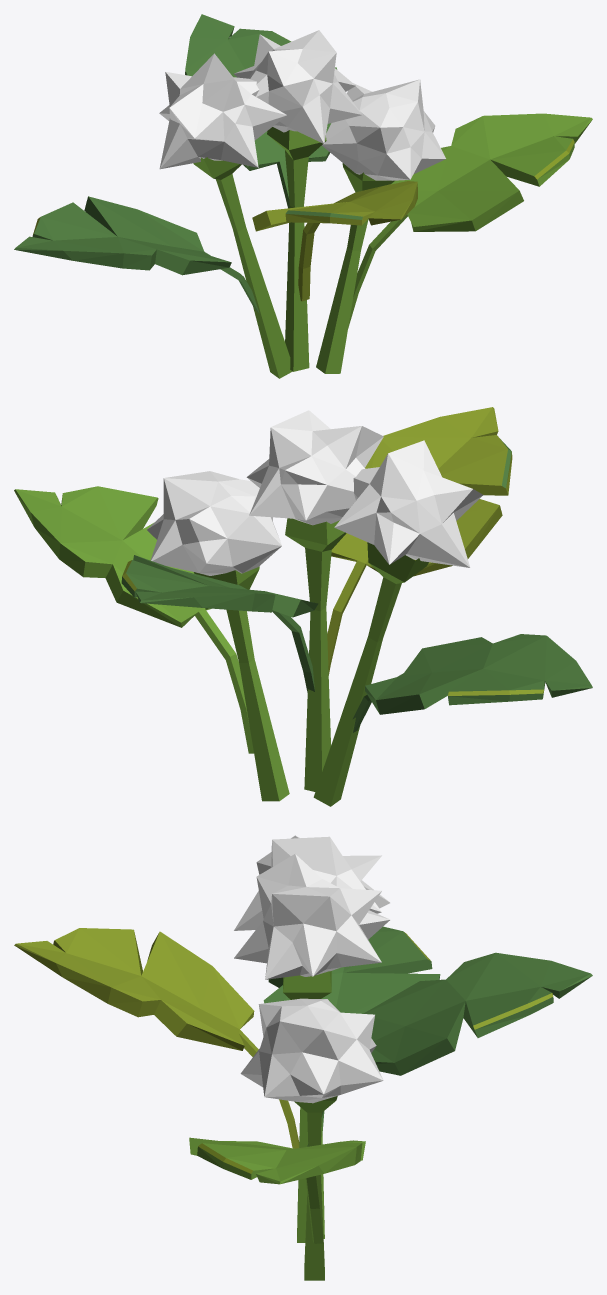
File: EA_M_Env_Flower_01b_PRE.glb
3 renders of one model, top to bottom at view 1: azimuth 30°, elevation 25°; view 2: azimuth 150°, elevation 25°; view 3: azimuth 270°, elevation 25°, orthographic. The views are drawn at different scales.
Parts seen in each view (by area): view 1: EA_M_Env_Flower_01b; view 2: EA_M_Env_Flower_01b; view 3: EA_M_Env_Flower_01b.
Boxes of the visible parts, x1,y1,x2,y2 form: EA_M_Env_Flower_01b: (14,14,592,378); EA_M_Env_Flower_01b: (14,407,592,806); EA_M_Env_Flower_01b: (14,835,592,1280).
Bounding box in the file's own units: 1.15 × 0.6898 × 0.9396.
Materials: 1 (1 with a texture image).
